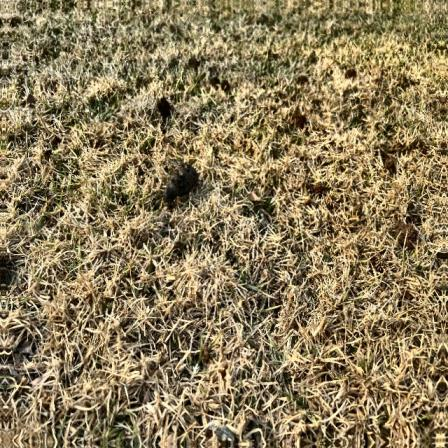dog-poop: (163, 161, 196, 208)
